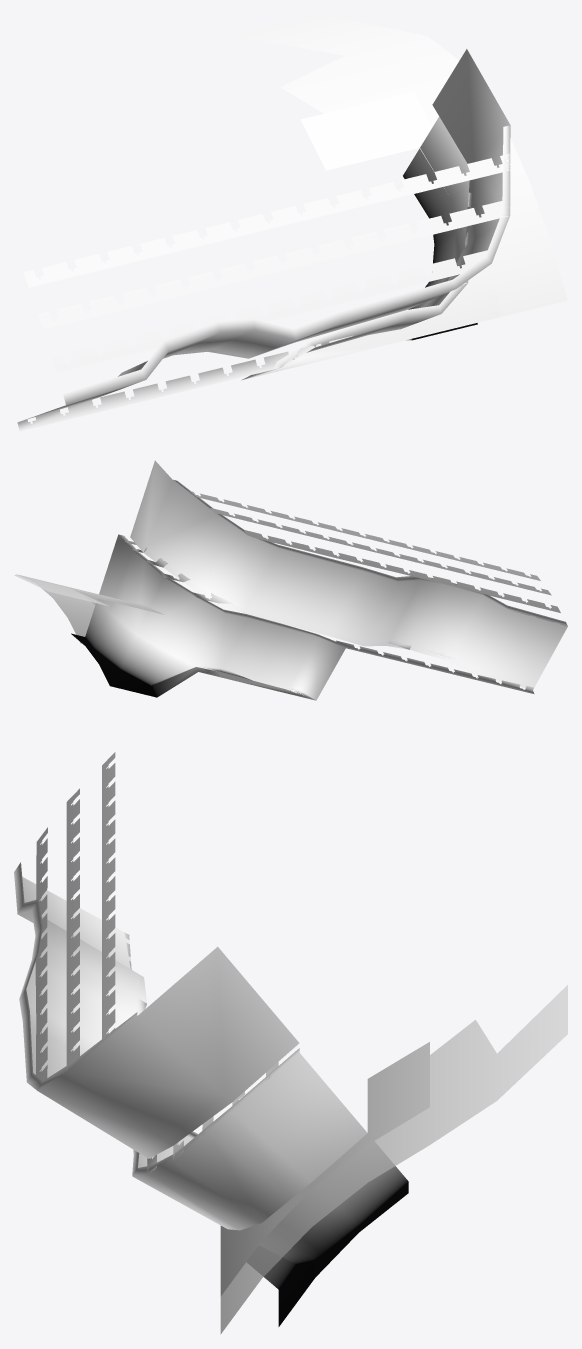
Rendered from grd_Ene_Mi_0.dae.
3 views of the same model, one above another, from view 1: azimuth 30°, elevation 25°; view 2: azimuth 150°, elevation 25°; view 3: azimuth 270°, elevation 25° (orthographic). The views are drawn at different scales.
Parts seen in each view (by area): view 1: grass_3_0, cliff_2_0, wave_6_0, ocean_4_0, beach_0_0; view 2: cliff_2_0, grass_3_0, wave_6_0, beach_1_0, beach_0_0, ocean_4_0; view 3: cliff_2_0, wave_6_0, grass_3_0, ocean_4_0, beach_1_0, river_edge_5_0.
Boxes of the visible parts, <box> form: grass_3_0: <box>17,153,509,431</box>; cliff_2_0: <box>20,49,510,421</box>; wave_6_0: <box>234,14,567,347</box>; ocean_4_0: <box>300,92,502,348</box>; beach_0_0: <box>243,329,400,379</box>; cliff_2_0: <box>85,460,567,700</box>; grass_3_0: <box>125,491,567,694</box>; wave_6_0: <box>14,574,140,643</box>; beach_1_0: <box>71,633,221,697</box>; beach_0_0: <box>152,666,315,700</box>; ocean_4_0: <box>68,587,163,614</box>; cliff_2_0: <box>14,862,408,1264</box>; wave_6_0: <box>220,985,567,1334</box>; grass_3_0: <box>35,752,278,1173</box>; ocean_4_0: <box>220,1042,429,1296</box>; beach_1_0: <box>247,1182,408,1326</box>; river_edge_5_0: <box>227,1142,361,1244</box>.
Bounding box in the file's own units: 576 × 284 × 396.
7 materials, 1 textured.
